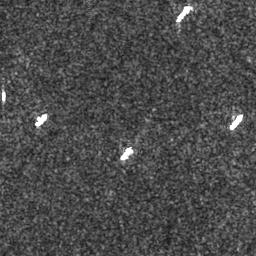ship: (173, 3, 196, 24), (228, 113, 243, 131), (118, 145, 134, 161), (34, 111, 48, 128), (1, 89, 7, 103)
